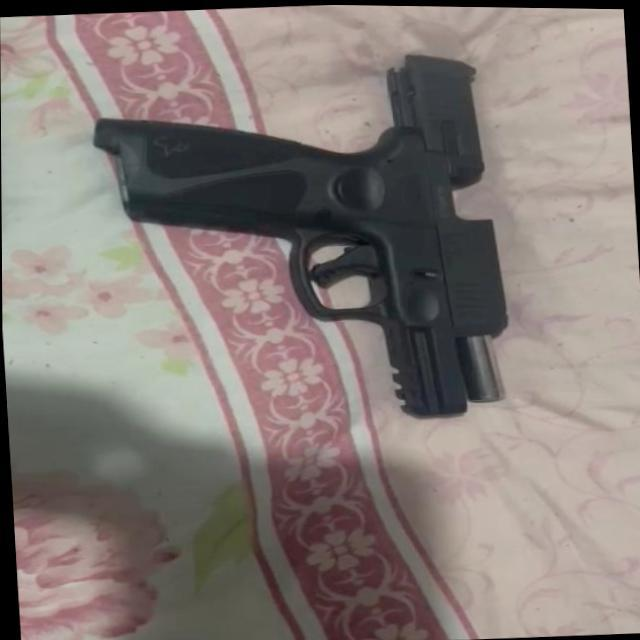gun: (80, 42, 520, 436)
